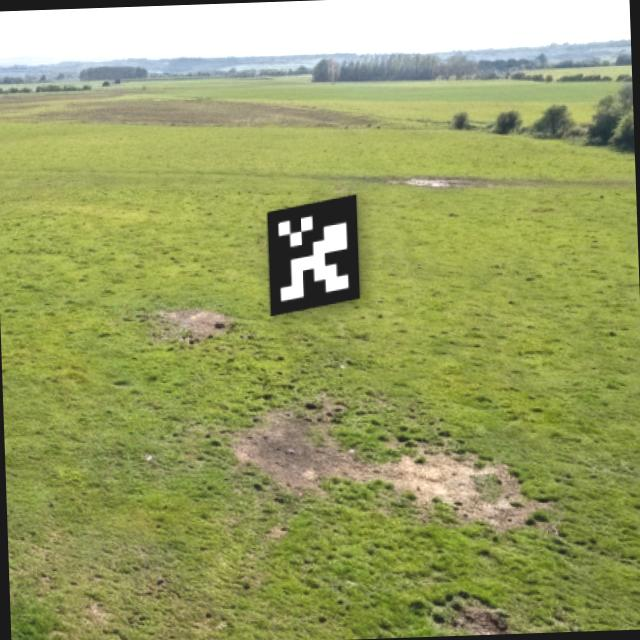marker: (256, 184, 377, 322)
